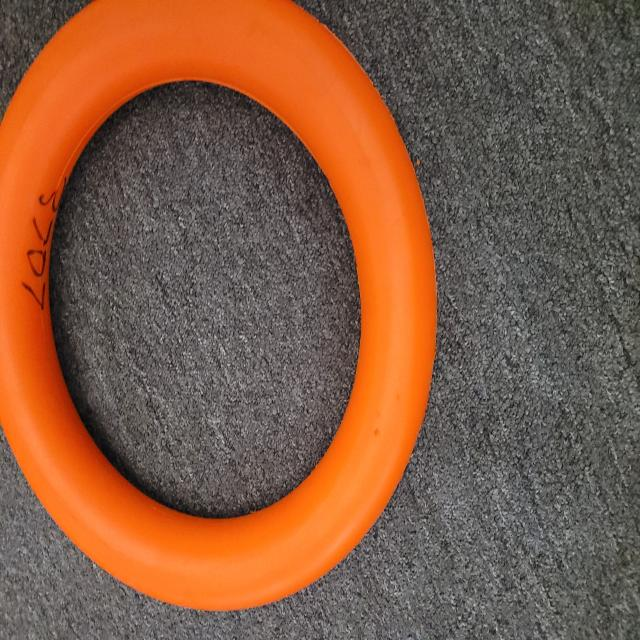note: (0, 0, 465, 623)
